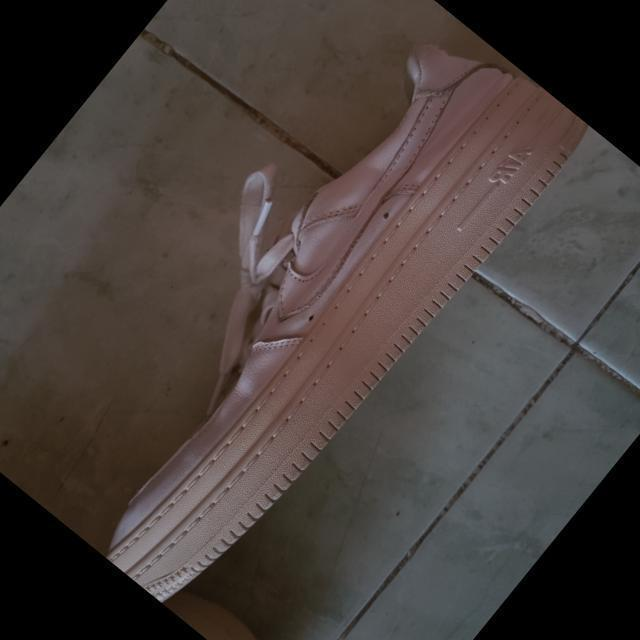nike fake air force: (43, 11, 594, 628)
